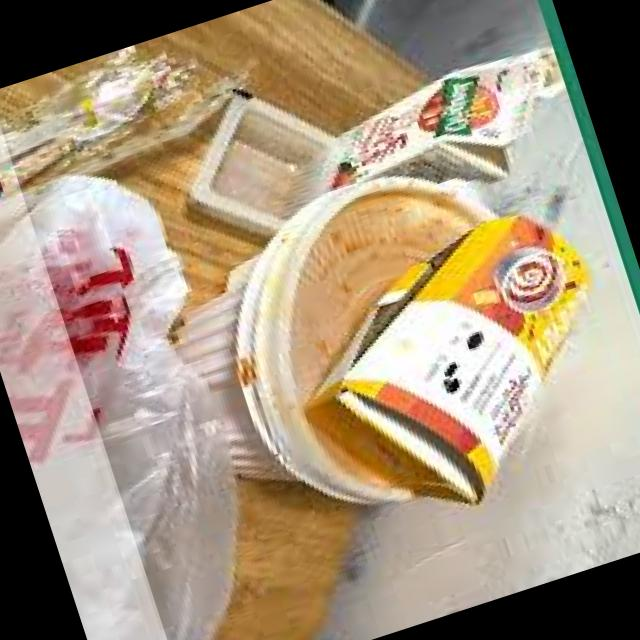paper: (281, 195, 611, 507), (324, 40, 563, 195)
plastic-bag: (0, 171, 247, 640), (0, 36, 258, 200)
plastic-bowl: (164, 168, 496, 515), (176, 80, 352, 246)
plastic-spoon: (0, 59, 153, 169)
